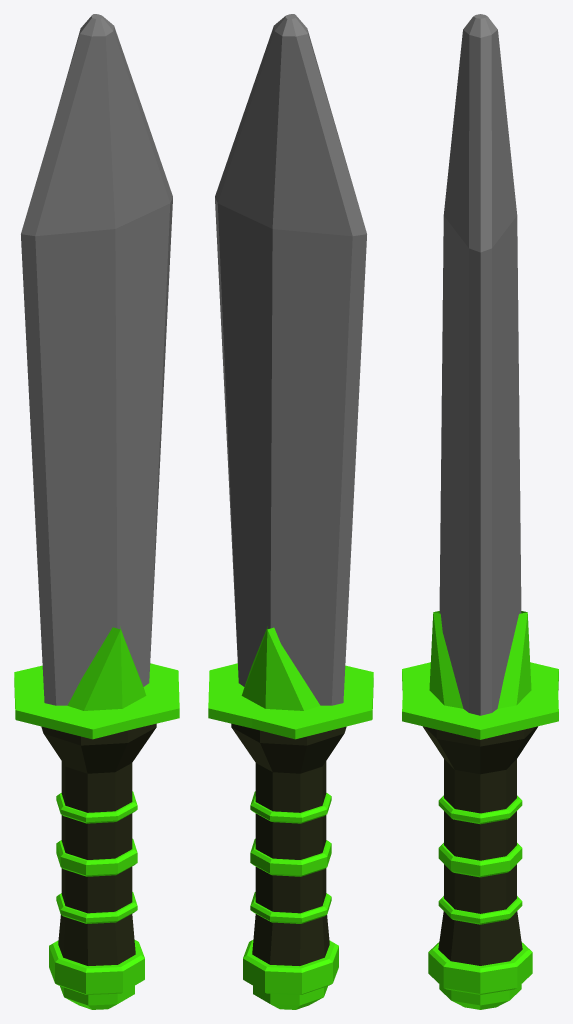
3 renders of one model, left to right at view 1: azimuth 30°, elevation 25°; view 2: azimuth 150°, elevation 25°; view 3: azimuth 270°, elevation 25°, orthographic.
Visible parts, largest first — view 1: Circle.004; view 2: Circle.004; view 3: Circle.004.
Boxes of the visible parts, left/top/right/bottom form: Circle.004: left=14, top=14, right=179, bottom=1009; Circle.004: left=208, top=14, right=373, bottom=1009; Circle.004: left=402, top=14, right=558, bottom=1009.
Size of the model in its own units: 340 by 1961 by 283.
